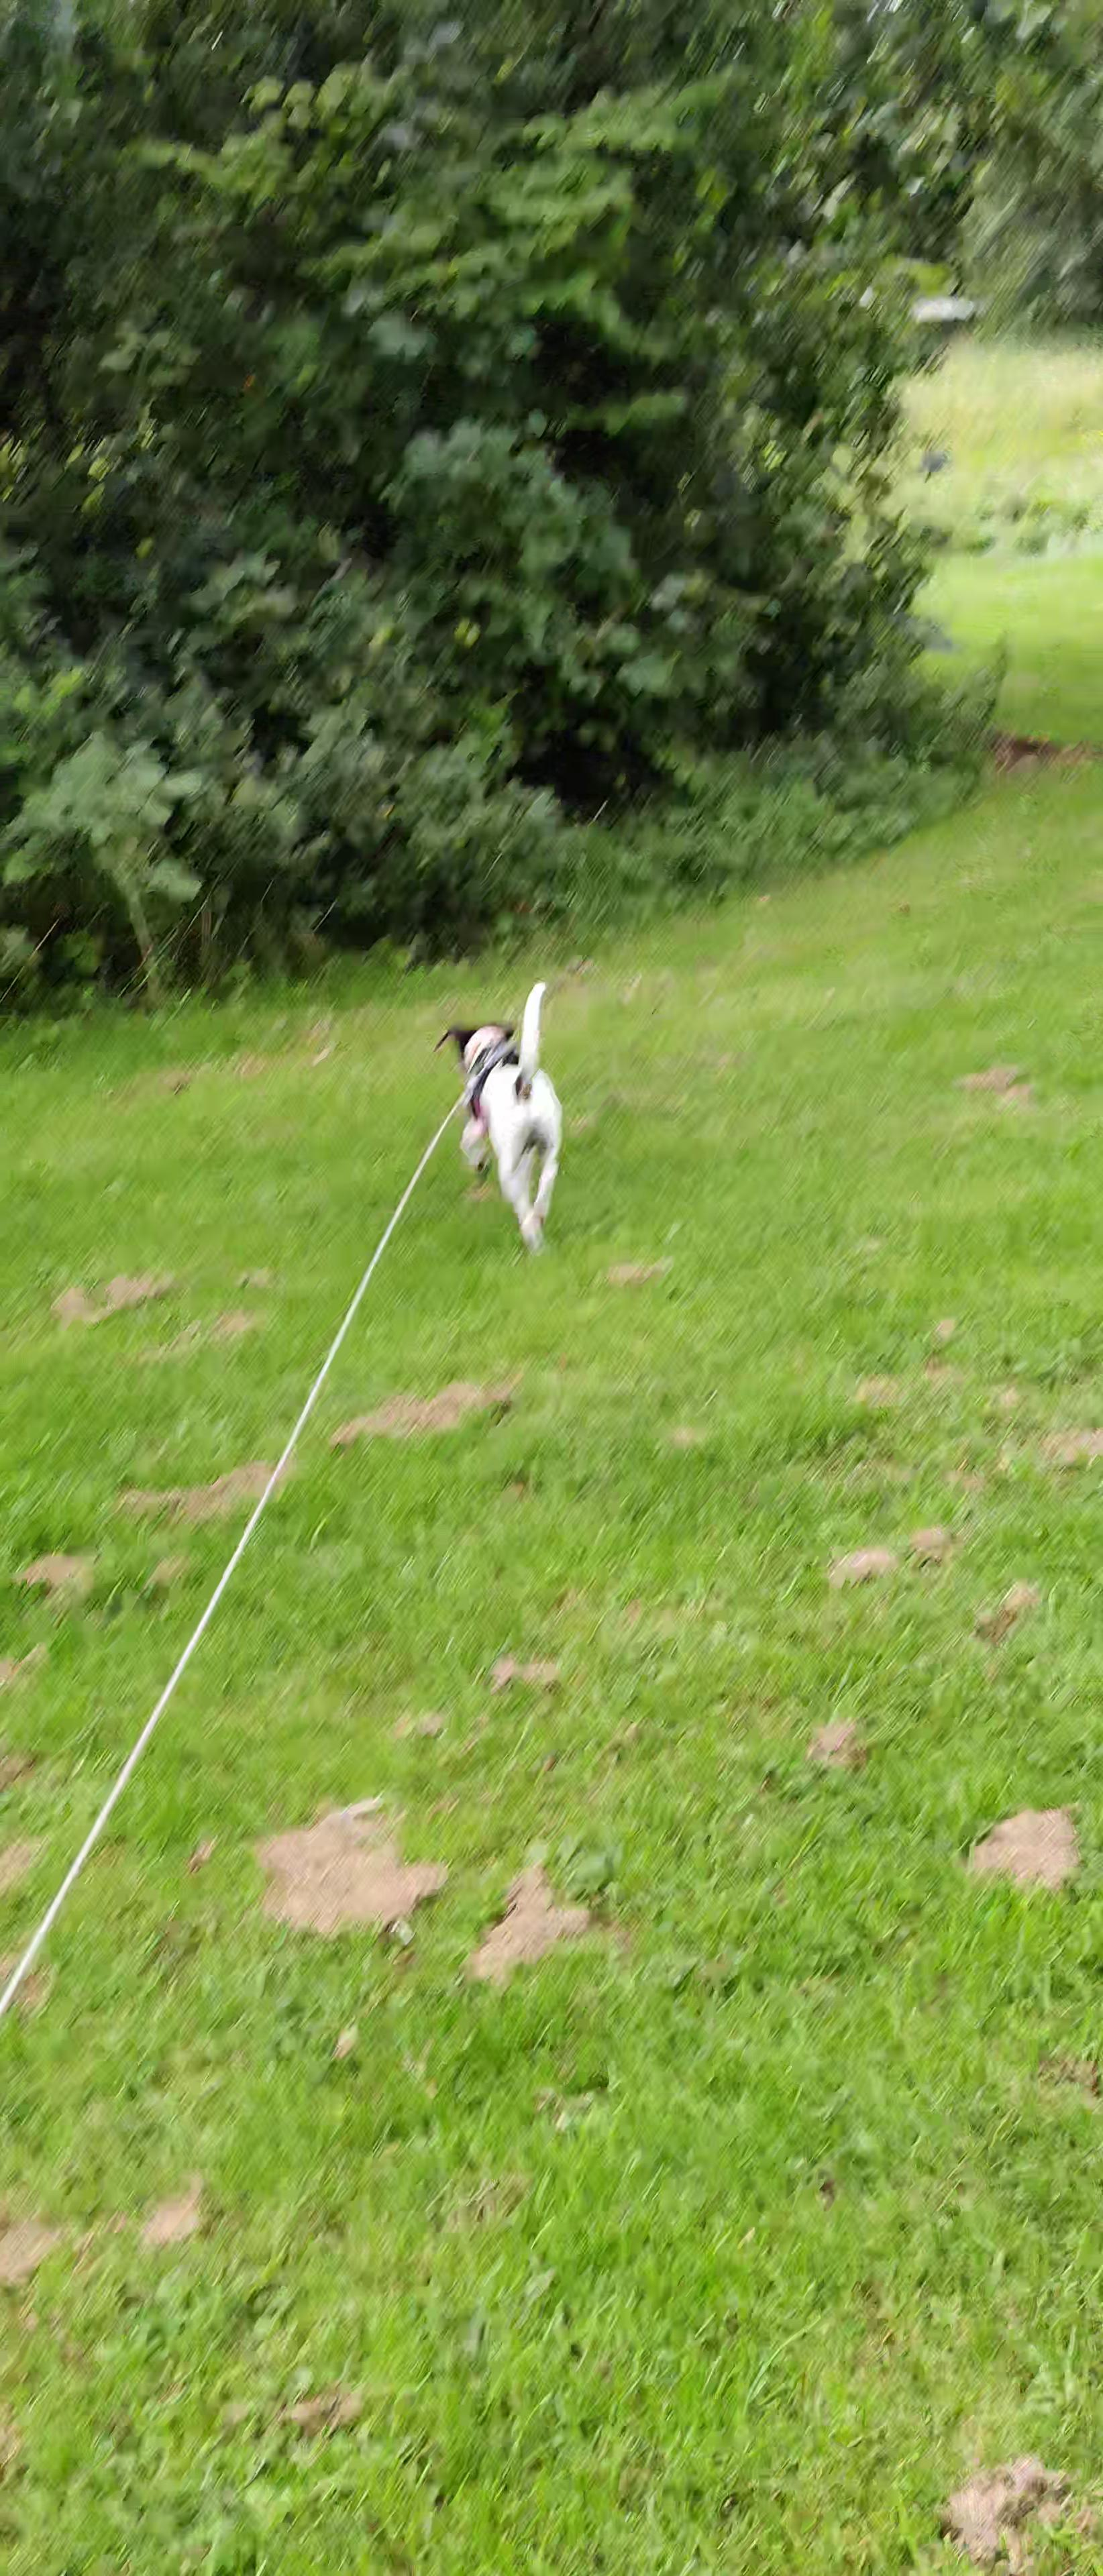Dog: (421, 966, 605, 1272)
